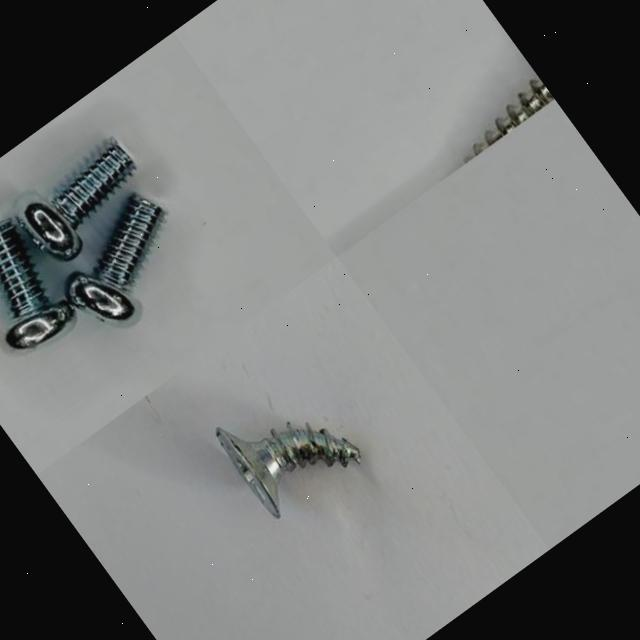Screw: (17, 138, 135, 261), (215, 421, 360, 517), (66, 195, 162, 320), (0, 221, 74, 350)
